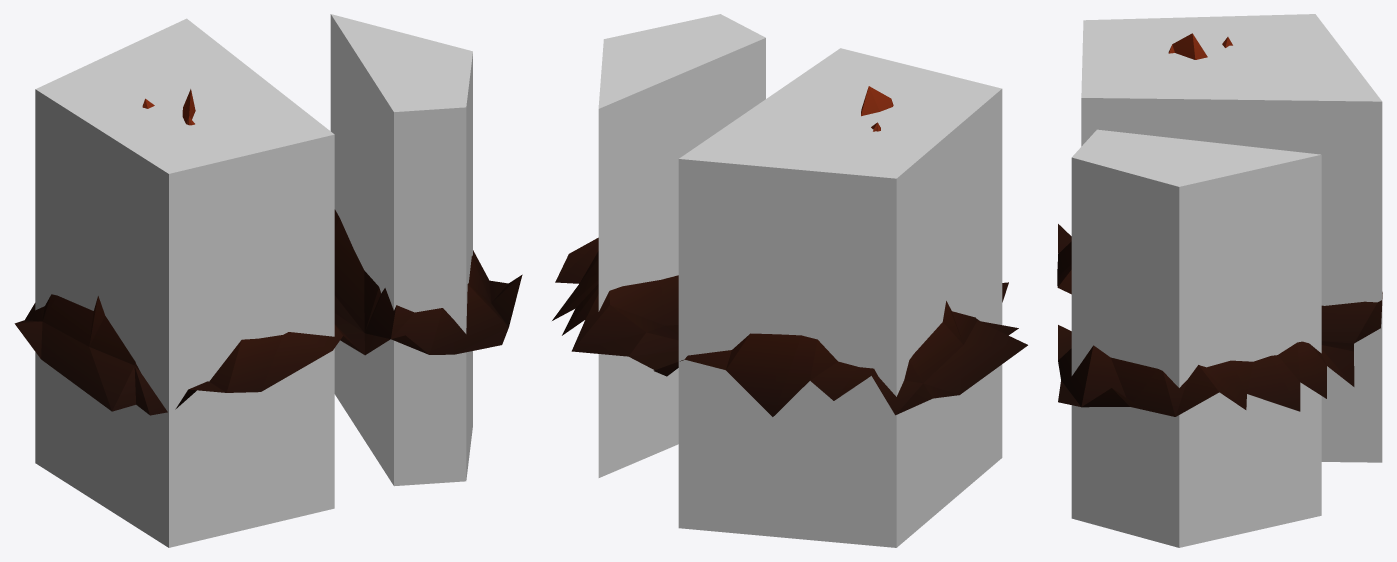
File: island_small_volcanic_Collection_2.fbx
3 views of the same model, side by side, from view 1: azimuth 30°, elevation 25°; view 2: azimuth 150°, elevation 25°; view 3: azimuth 270°, elevation 25° (orthographic). The views are drawn at different scales.
Parts seen in each view (by area): view 1: islandRock_2_col, islandRock_2; view 2: islandRock_2_col, islandRock_2; view 3: islandRock_2_col, islandRock_2.
Boxes of the visible parts, x1=… form: islandRock_2_col: x1=35, y1=14, x2=472, y2=547; islandRock_2: x1=14, y1=89, x2=522, y2=415; islandRock_2_col: x1=598, y1=14, x2=1002, y2=547; islandRock_2: x1=552, y1=86, x2=1027, y2=416; islandRock_2_col: x1=1071, y1=14, x2=1382, y2=547; islandRock_2: x1=1057, y1=33, x2=1382, y2=416.
Size of the model in its own units: 3938 by 3655 by 2801.
